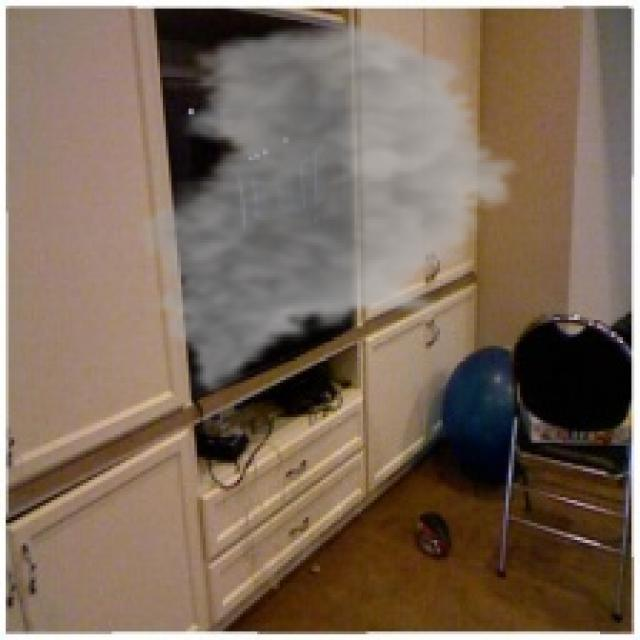Smoke: (128, 17, 528, 397)
